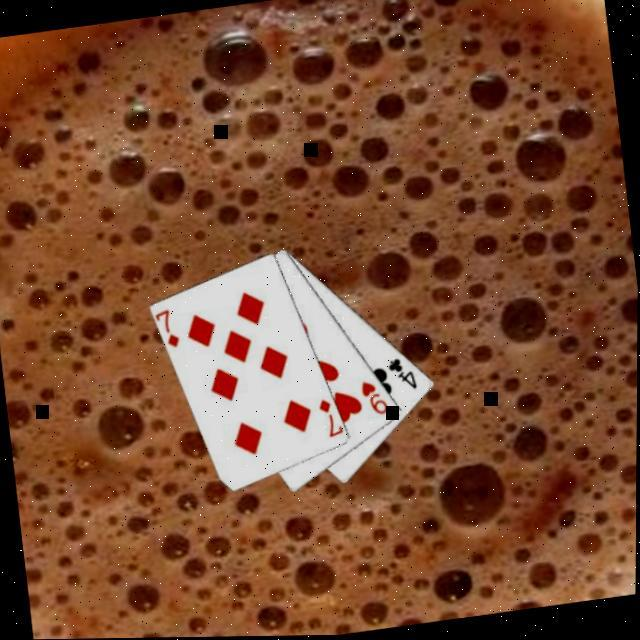4C: (383, 356, 419, 398)
7D: (313, 397, 344, 444), (152, 307, 182, 354)
9H: (356, 378, 390, 422)
